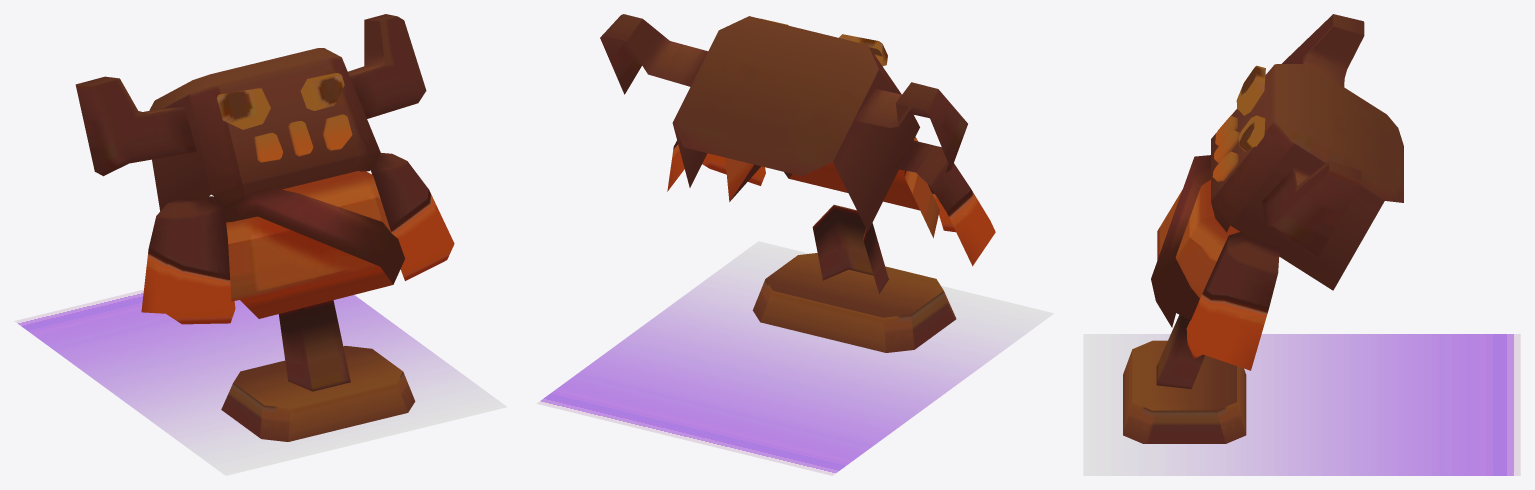
File: scarecrow.fbx
3 renders of one model, left to right at view 1: azimuth 30°, elevation 25°; view 2: azimuth 150°, elevation 25°; view 3: azimuth 270°, elevation 25°, orthographic. The views are drawn at different scales.
Parts seen in each view (by area): view 1: bone, shadow; view 2: bone, shadow; view 3: bone, shadow.
Part boxes in pixels (<box>): bone: <box>75,14,454,441</box>; shadow: <box>14,289,507,475</box>; bone: <box>600,14,995,352</box>; shadow: <box>536,241,1053,475</box>; bone: <box>1123,14,1403,443</box>; shadow: <box>1083,334,1520,475</box>.
Size of the model in its own units: 1.03 by 0.9747 by 1.2.
